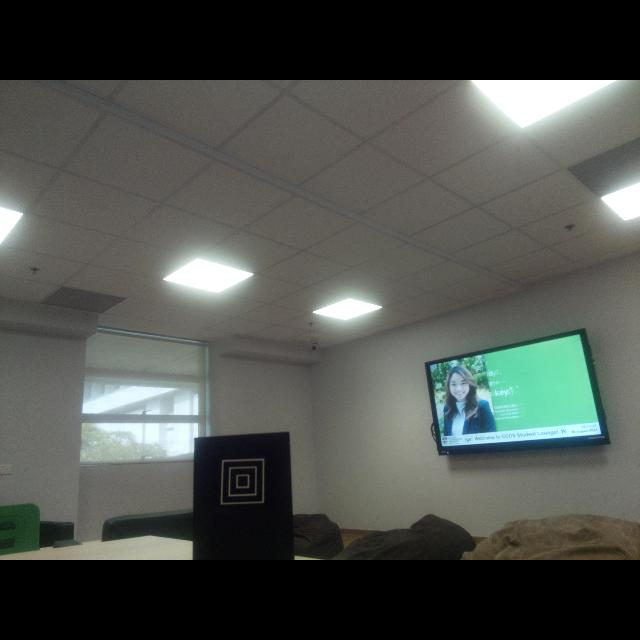BULLSEYE: (221, 459, 265, 505)
